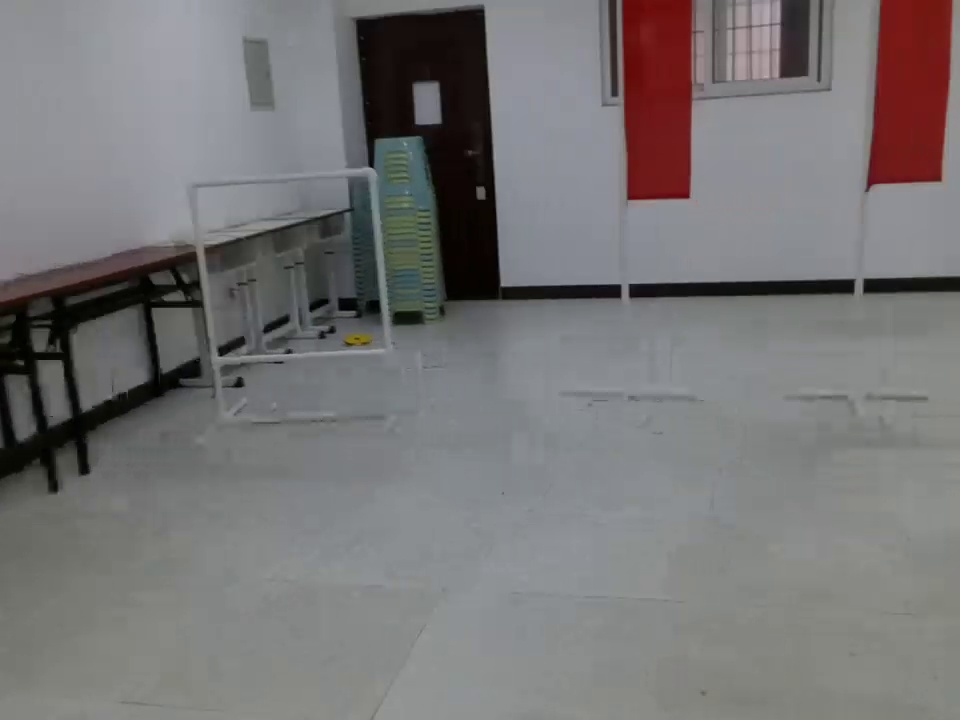qi: (610, 1, 697, 207), (866, 1, 953, 199)
